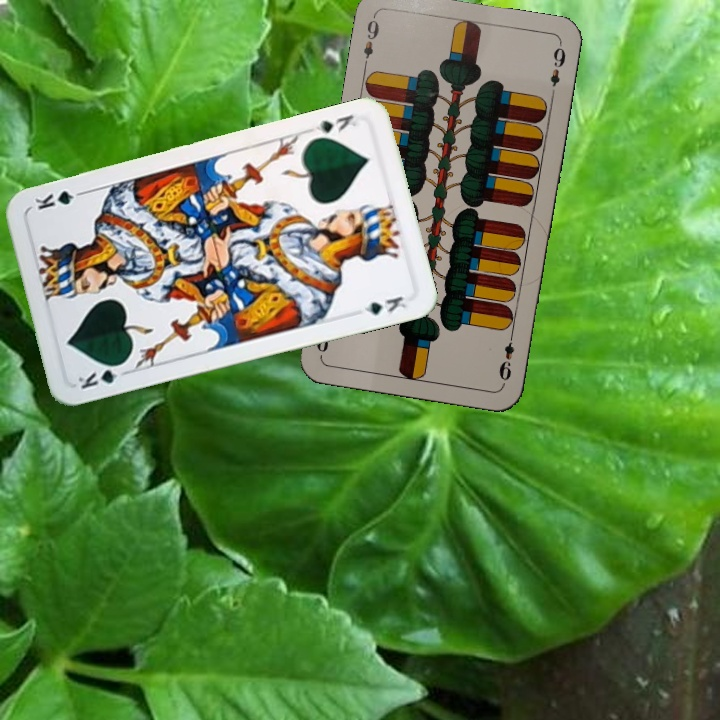E9: (359, 11, 382, 70), (495, 327, 517, 383)
GK: (74, 359, 131, 392), (309, 110, 360, 143)
